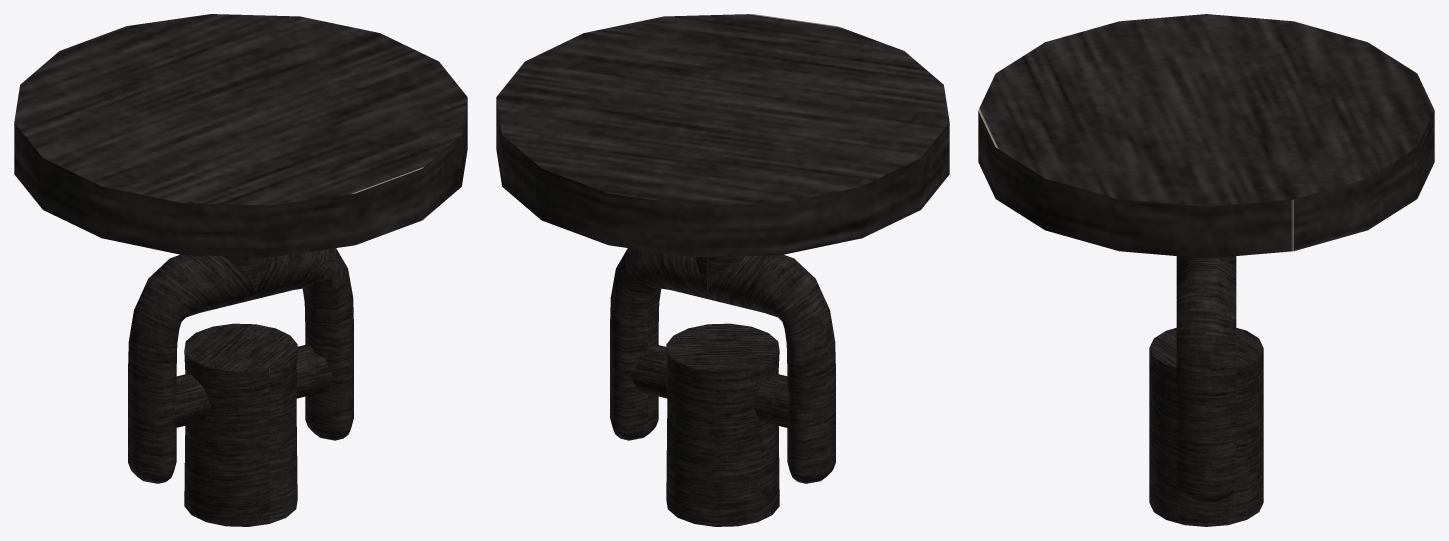
Rendered from spotlightSingle.fbx.
3 views of the same model, side by side, from view 1: azimuth 30°, elevation 25°; view 2: azimuth 150°, elevation 25°; view 3: azimuth 270°, elevation 25° (orthographic).
Parts seen in each view (by area): view 1: spotlightSingle, spotlightBody, spotlightYaw; view 2: spotlightSingle, spotlightBody, spotlightYaw; view 3: spotlightSingle, spotlightYaw, spotlightBody.
Part boxes in pixels (bbox=[...]): spotlightSingle: bbox=[14, 14, 467, 257]; spotlightBody: bbox=[174, 323, 333, 526]; spotlightYaw: bbox=[128, 248, 353, 483]; spotlightSingle: bbox=[496, 14, 949, 257]; spotlightBody: bbox=[630, 323, 789, 526]; spotlightYaw: bbox=[610, 248, 835, 483]; spotlightSingle: bbox=[978, 14, 1434, 258]; spotlightYaw: bbox=[1176, 256, 1236, 503]; spotlightBody: bbox=[1149, 328, 1263, 526].
Bounding box in the file's own units: 32 × 30.36 × 32.
2 materials, 1 textured.
